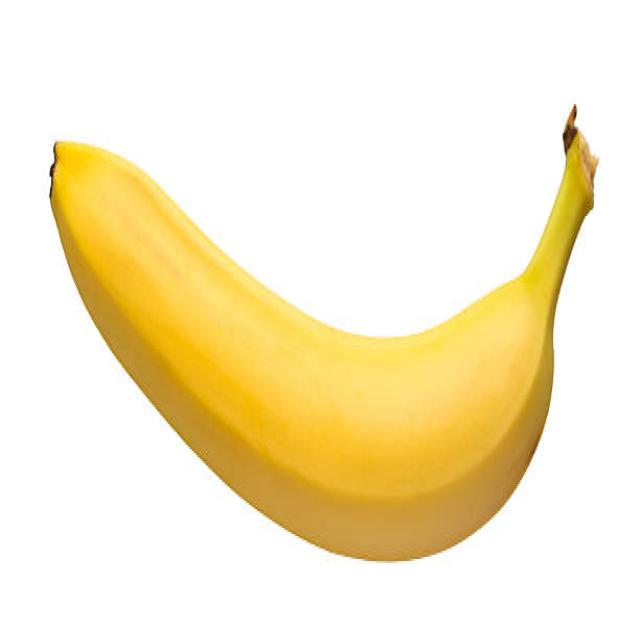Ripe: (48, 102, 597, 565)
